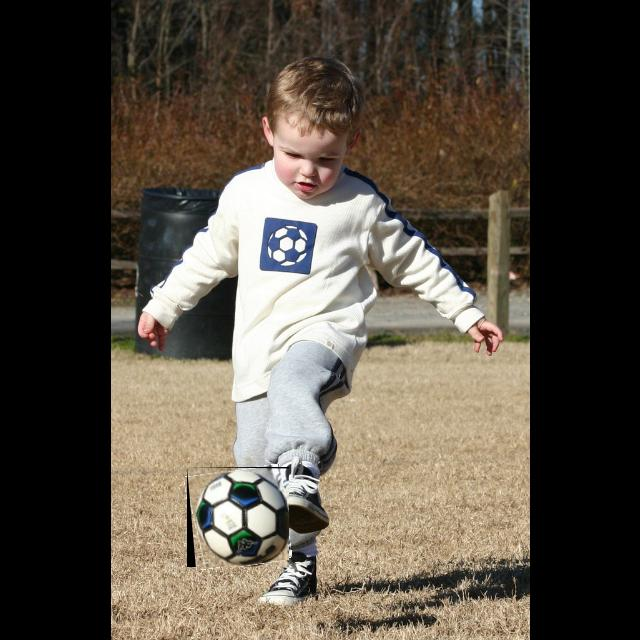Football: (187, 467, 289, 567)
